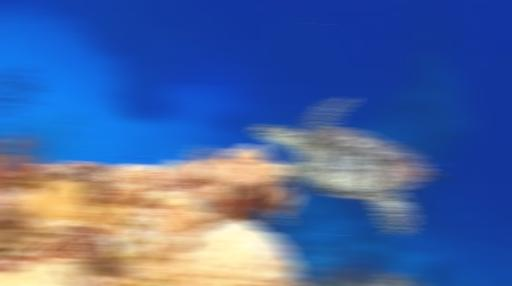Fish: (254, 97, 440, 235)
